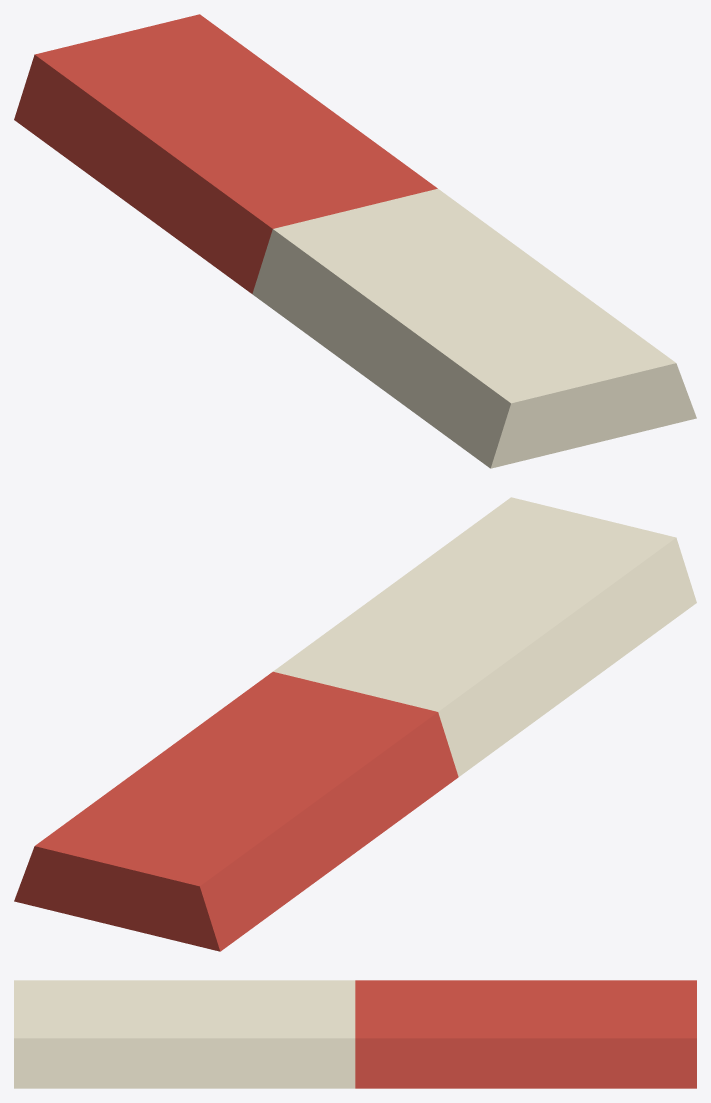
File: kerb.glb
3 renders of one model, top to bottom at view 1: azimuth 30°, elevation 25°; view 2: azimuth 150°, elevation 25°; view 3: azimuth 270°, elevation 25°, orthographic. The views are drawn at different scales.
Parts seen in each view (by area): view 1: kerb; view 2: kerb; view 3: kerb.
Boxes of the visible parts, bbox=[...] form: kerb: bbox=[14, 14, 696, 468]; kerb: bbox=[14, 497, 696, 951]; kerb: bbox=[14, 980, 696, 1088].
Size of the model in its own units: 0.5 by 0.1396 by 2.
